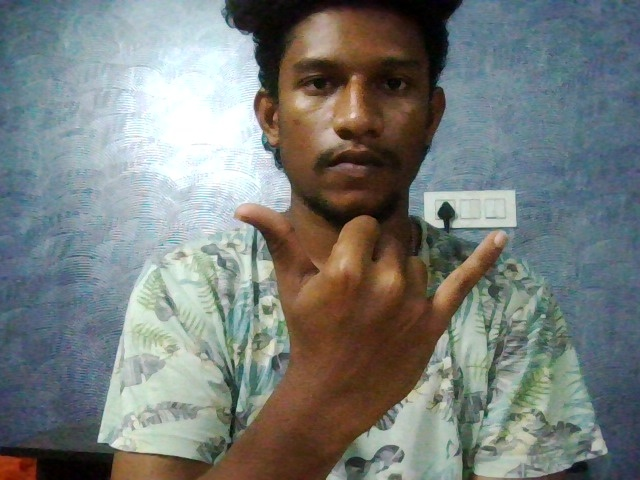good luck: (204, 165, 568, 441)
